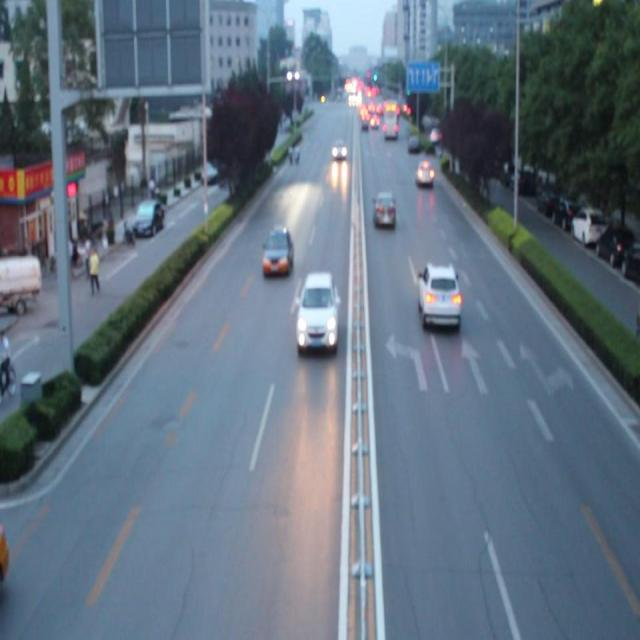car: (415, 258, 461, 332), (296, 271, 337, 349), (261, 224, 293, 276), (373, 189, 395, 229)
